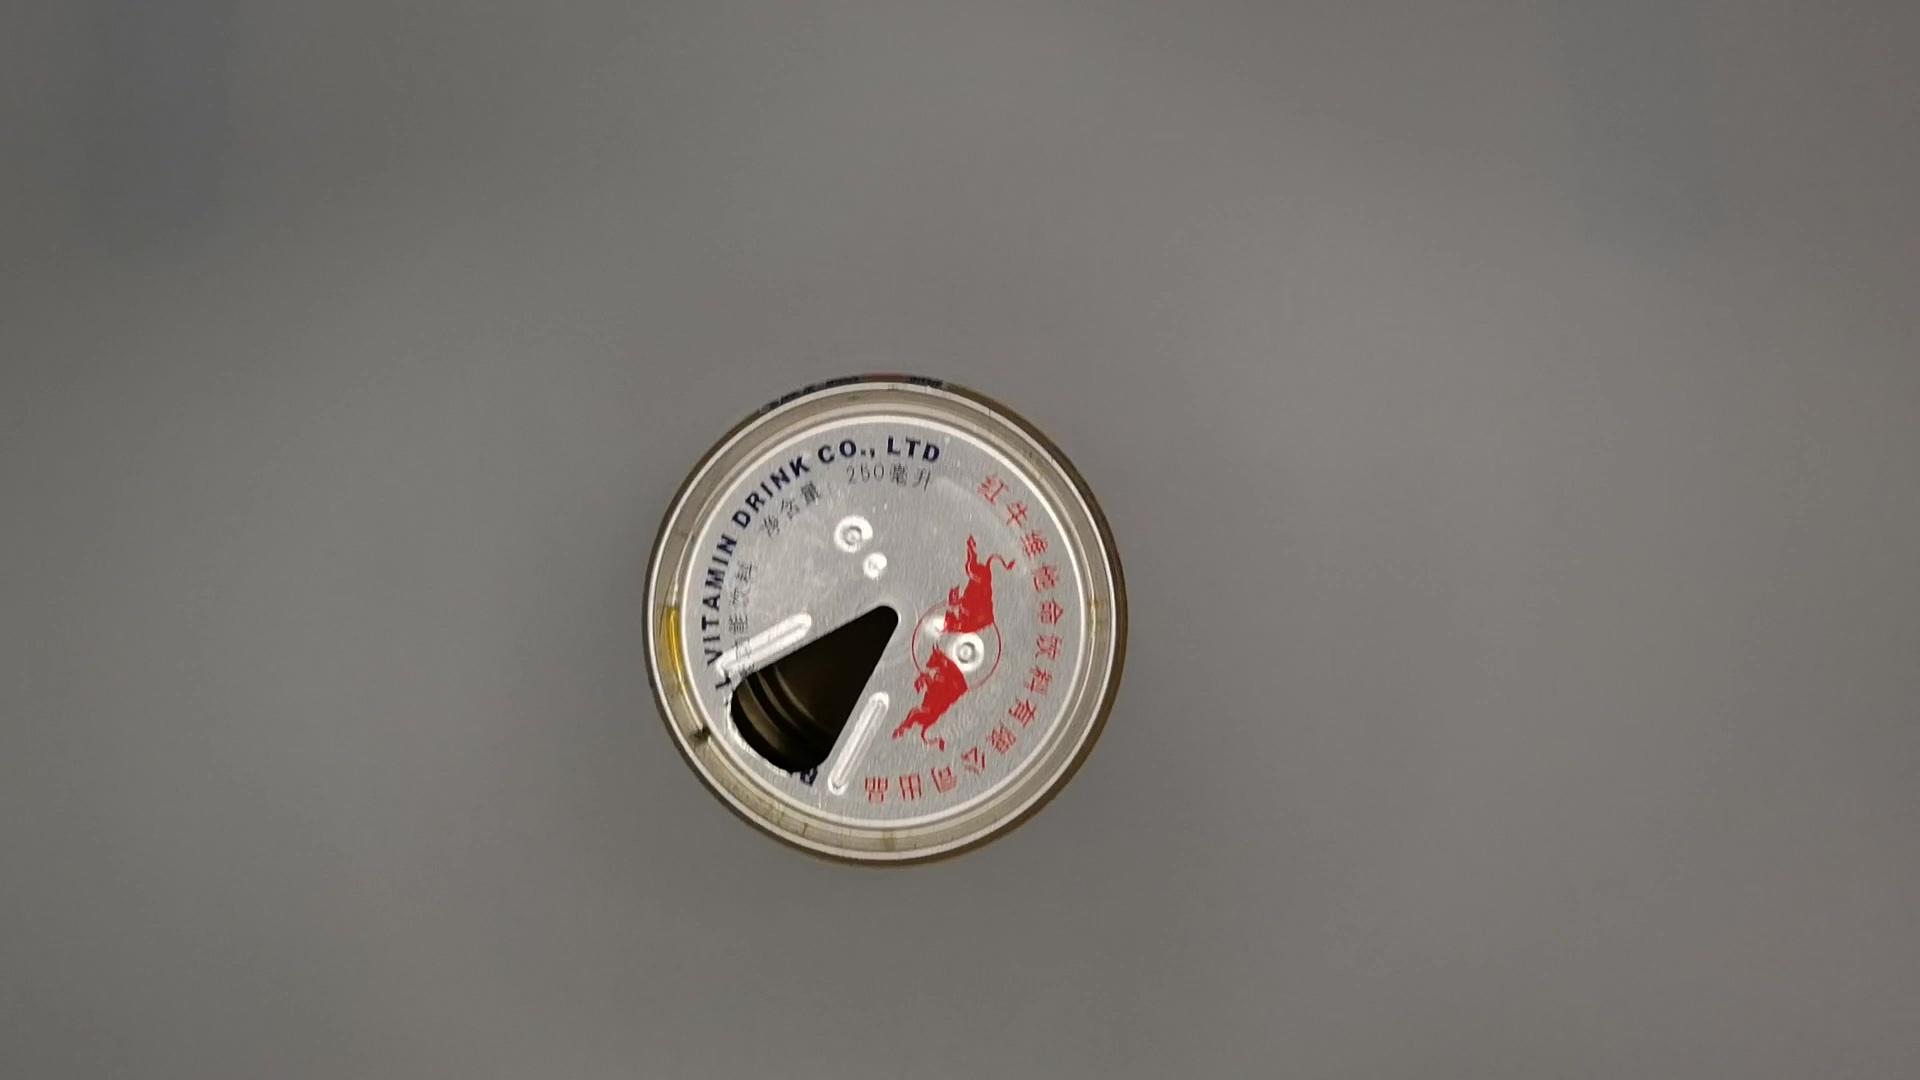can: (641, 375, 1129, 874)
